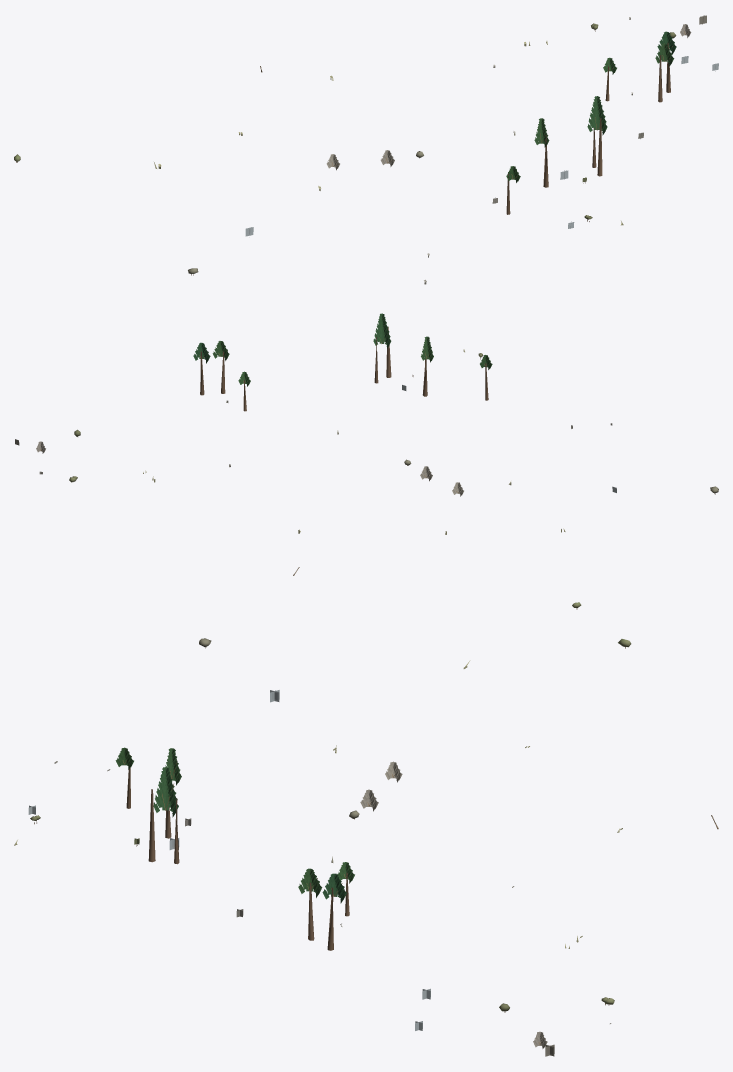
Rendered from coast_land_scatter_c11_24_lod1.glb.
The picture shows the model from 3 angles, top to bottom: view 1: azimuth 30°, elevation 25°; view 2: azimuth 150°, elevation 25°; view 3: azimuth 270°, elevation 25°; orthographic projection. The views are drawn at different scales.
Visible parts, largest first — view 1: coast_land_scatter_c11_24_lod1; view 2: coast_land_scatter_c11_24_lod1; view 3: coast_land_scatter_c11_24_lod1.
Boxes of the visible parts, x1,y1,x2,y2 form: coast_land_scatter_c11_24_lod1: (14,15,718,284); coast_land_scatter_c11_24_lod1: (15,313,718,609); coast_land_scatter_c11_24_lod1: (14,638,718,1056).
Bounding box in the file's own units: 99.4 × 15.1 × 71.83.
